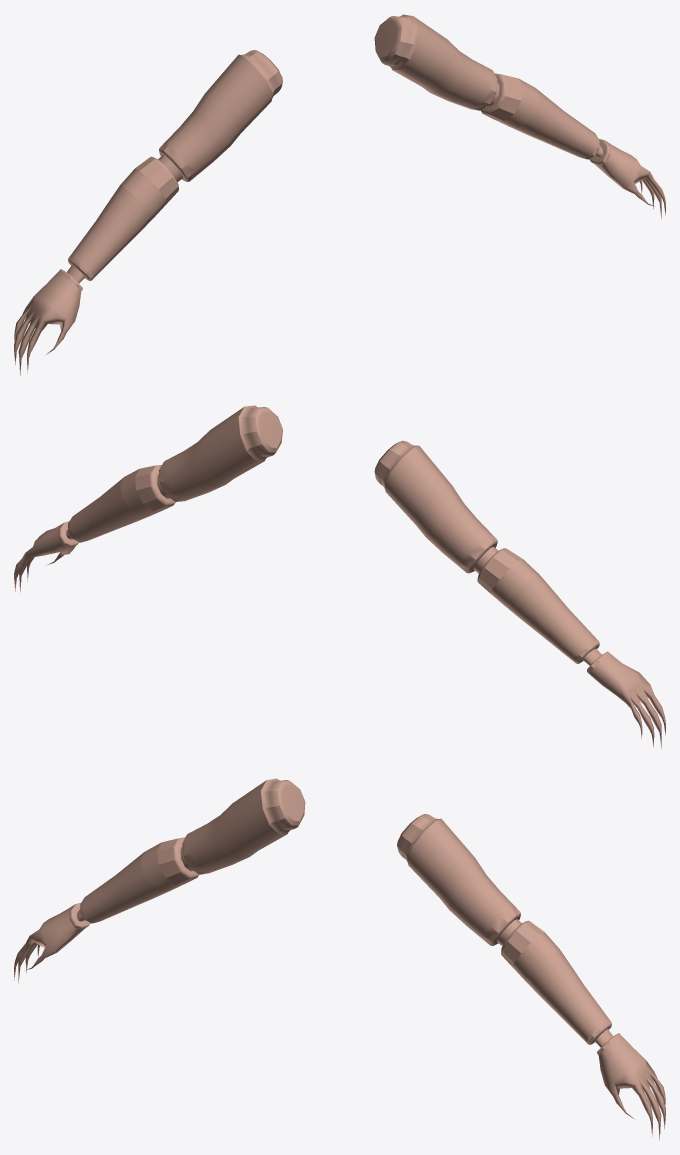
Rendered from arm.fbx.
3 renders of one model, top to bottom at view 1: azimuth 30°, elevation 25°; view 2: azimuth 150°, elevation 25°; view 3: azimuth 330°, elevation 25°, orthographic.
Parts seen in each view (by area): view 1: arm; view 2: arm; view 3: arm.
Boxes of the visible parts, x1=… form: arm: x1=14, y1=14, x2=665, y2=376; arm: x1=14, y1=405, x2=665, y2=749; arm: x1=14, y1=778, x2=665, y2=1140.
Size of the model in its own units: 22.14 by 8.39 by 2.16.
